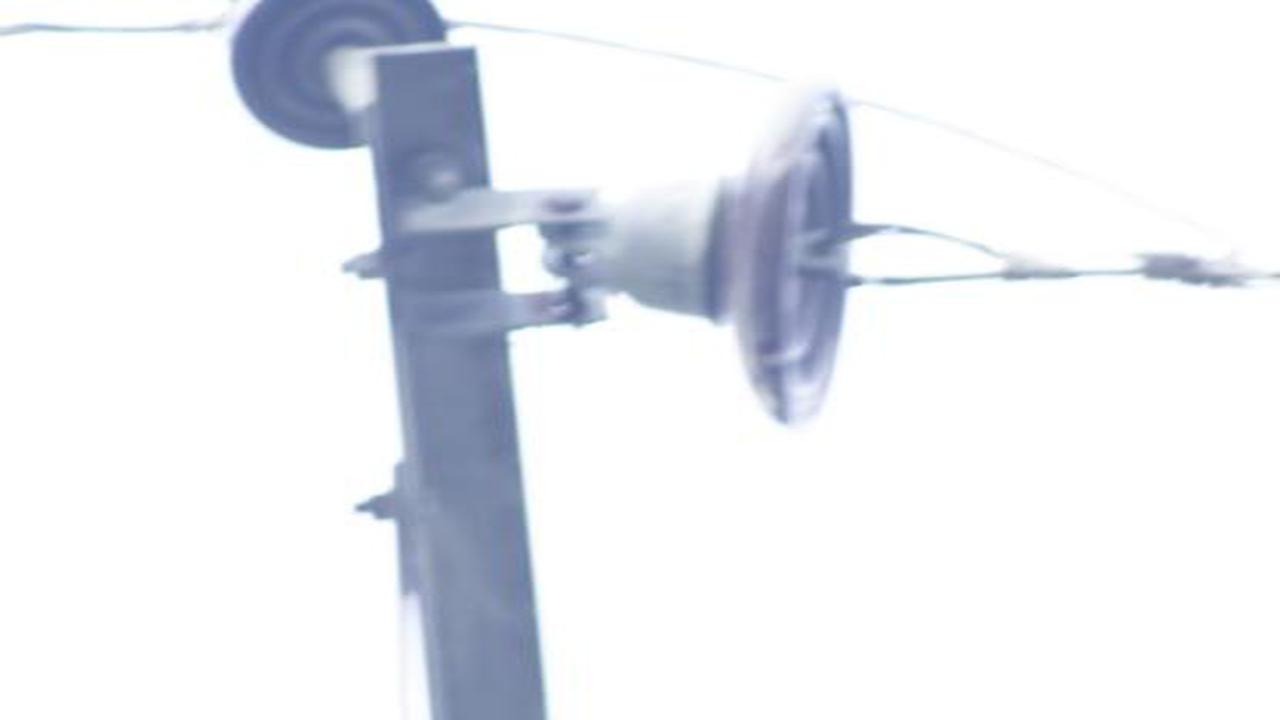insulator_disc: (725, 81, 858, 425)
